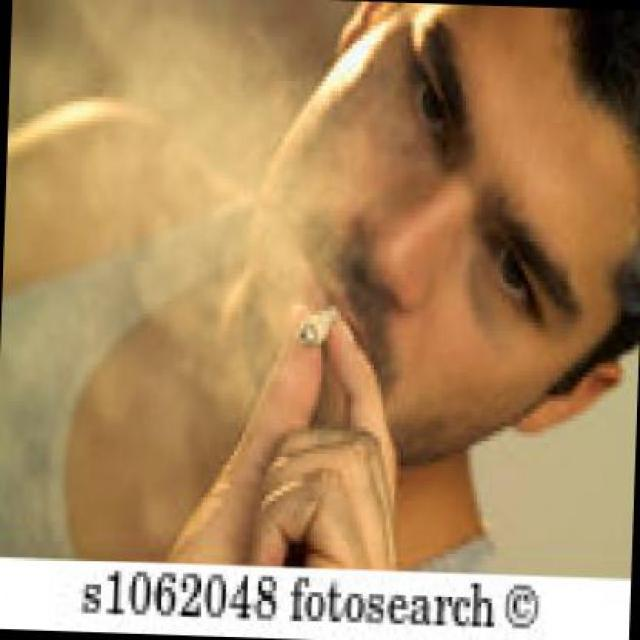cigarette: (294, 302, 338, 352)
